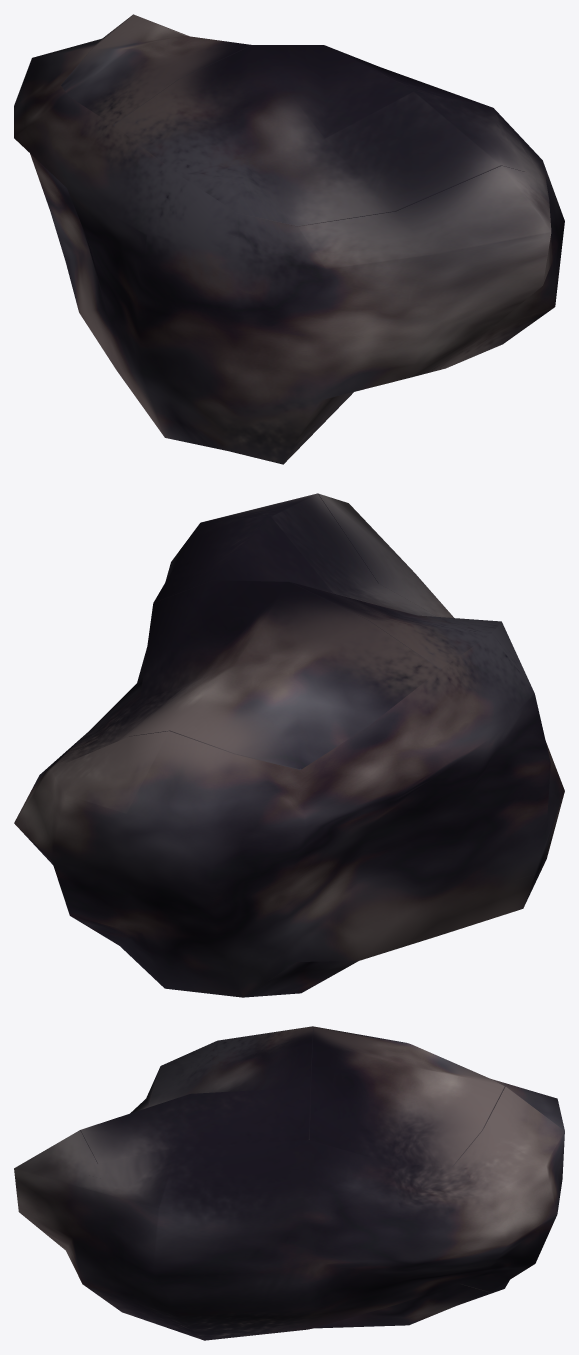
Rendered from asteroid1.FBX.
3 renders of one model, top to bottom at view 1: azimuth 30°, elevation 25°; view 2: azimuth 150°, elevation 25°; view 3: azimuth 270°, elevation 25°, orthographic. The views are drawn at different scales.
Visible parts, largest first — view 1: Default; view 2: Default; view 3: Default.
Boxes of the visible parts, <box> form: Default: <box>14,14,564,464</box>; Default: <box>14,493,564,997</box>; Default: <box>14,1026,564,1340</box>.
Size of the model in its own units: 0.7057 by 0.5629 by 0.9904.
Materials: 1 (1 with a texture image).
